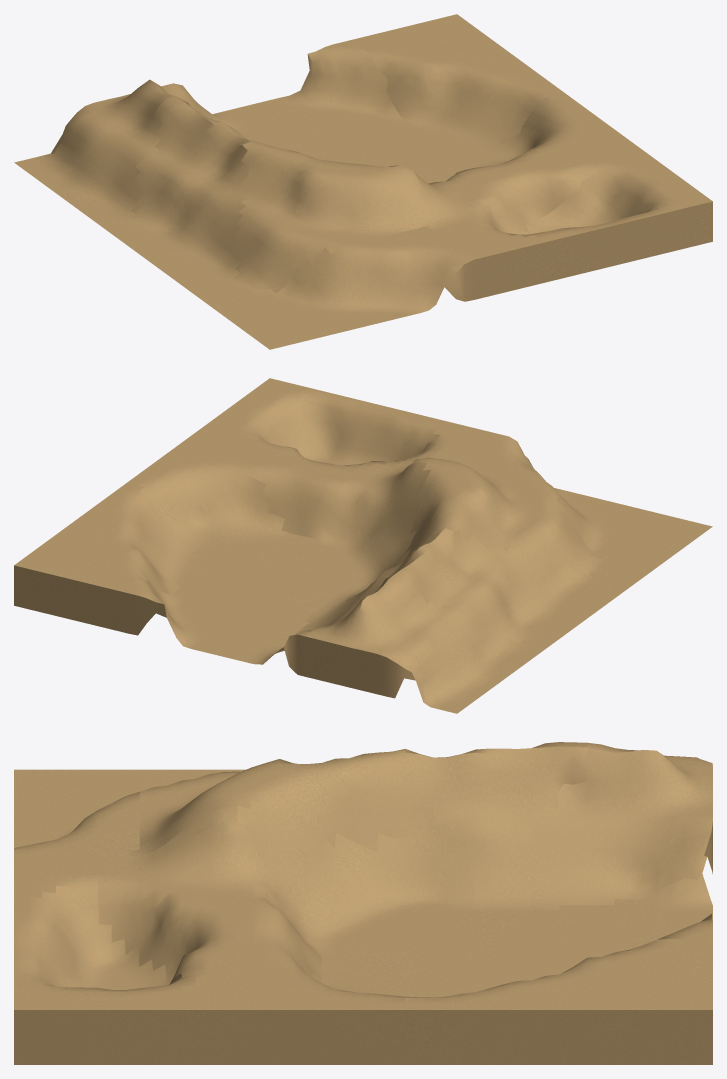
The model's file is ground.obj.
3 renders of one model, top to bottom at view 1: azimuth 30°, elevation 25°; view 2: azimuth 150°, elevation 25°; view 3: azimuth 270°, elevation 25°, orthographic. The views are drawn at different scales.
Visible parts, largest first — view 1: Plane_1, Plane, Plane_5, Plane_6, Plane_3, Plane_7, Plane_8, Plane_2, Plane_4; view 2: Plane_8, Plane_2, Plane_6, Plane_4, Plane_5, Plane, Plane_3, Plane_1, Plane_7; view 3: Plane_2, Plane_6, Plane_4, Plane_8, Plane, Plane_3, Plane_1, Plane_5, Plane_7.
Boxes of the visible parts, bbox=[...] form: Plane_1: bbox=[209, 226, 553, 349]; Plane: bbox=[203, 139, 440, 304]; Plane_5: bbox=[106, 96, 250, 302]; Plane_6: bbox=[351, 14, 574, 148]; Plane_3: bbox=[507, 161, 712, 280]; Plane_7: bbox=[204, 40, 436, 162]; Plane_8: bbox=[14, 79, 257, 229]; Plane_2: bbox=[342, 149, 601, 234]; Plane_4: bbox=[367, 97, 671, 183]; Plane_8: bbox=[276, 580, 548, 713]; Plane_2: bbox=[238, 437, 463, 600]; Plane_6: bbox=[14, 479, 206, 635]; Plane_4: bbox=[132, 408, 310, 585]; Plane_5: bbox=[344, 528, 645, 646]; Plane: bbox=[401, 457, 651, 575]; Plane_3: bbox=[228, 378, 440, 465]; Plane_1: bbox=[422, 417, 712, 571]; Plane_7: bbox=[121, 568, 316, 664]; Plane_2: bbox=[98, 800, 489, 983]; Plane_6: bbox=[391, 939, 712, 1064]; Plane_4: bbox=[112, 935, 489, 1064]; Plane_8: bbox=[475, 742, 712, 917]; Plane: bbox=[126, 749, 447, 856]; Plane_3: bbox=[14, 886, 195, 1064]; Plane_1: bbox=[14, 769, 181, 910]; Plane_5: bbox=[181, 742, 587, 894]; Plane_7: bbox=[475, 873, 712, 991].
Size of the model in its own units: 100 by 15.8 by 100.
1 material, 1 textured.
